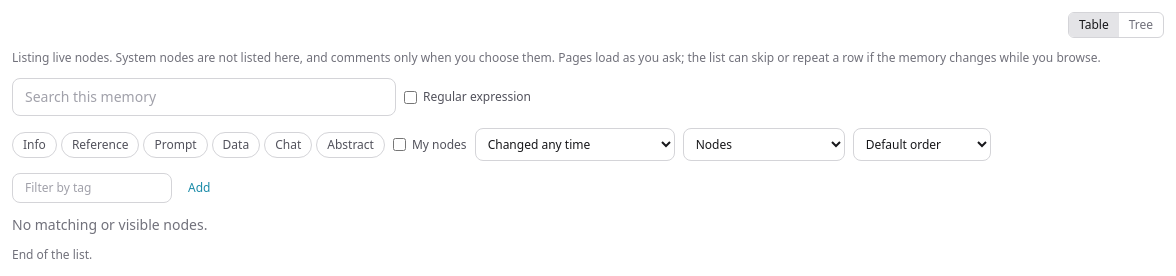
Test: regex mode and the scope-aware empty states (#2706 PR 2) › empty search under scope  says what was searched
The width and height of the screenshot is (1176, 276).
Type "zebra" into the search field with test id "nodes-search".
click(204, 97); type("zebra")  # box [12,78,396,116]
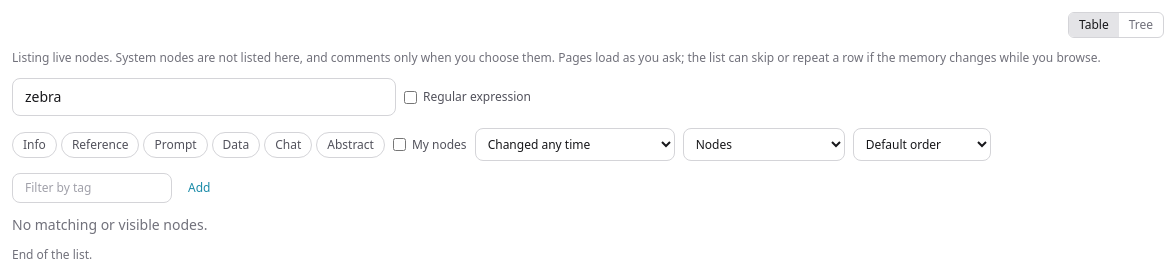
Press Enter in the search field with test id "nodes-search", box [12,78,396,116]
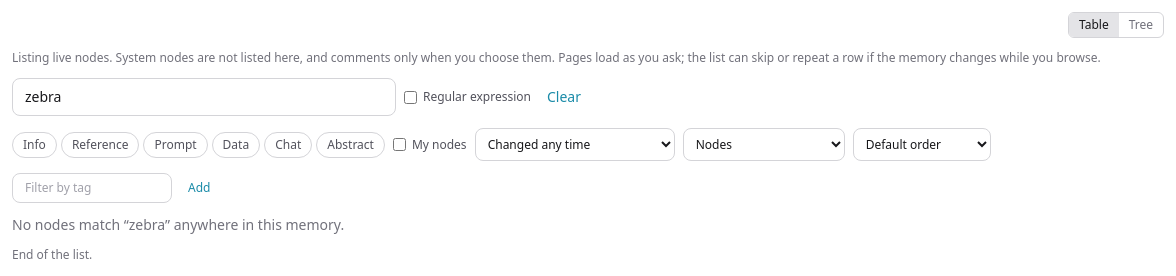
Result: the text "No nodes match “zebra”" is shown at [12,215,344,234]
